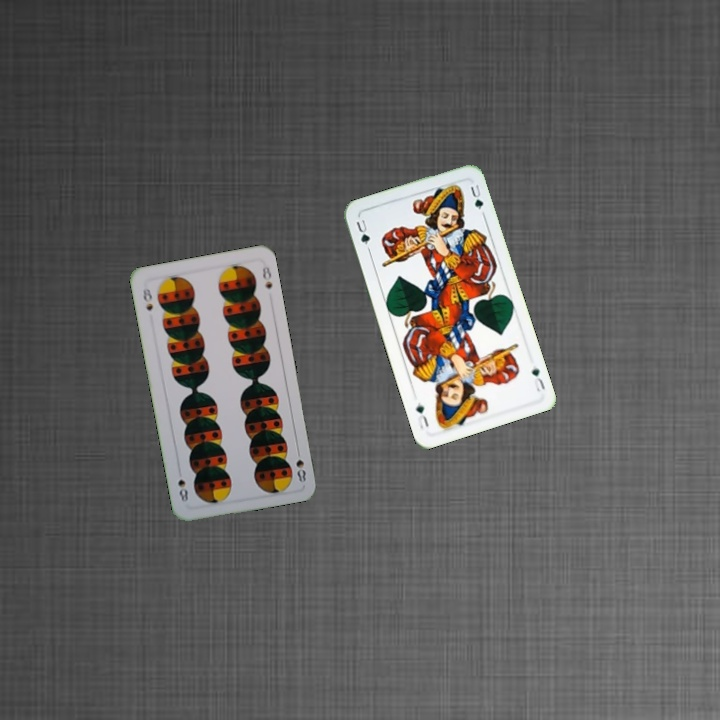GU: (352, 215, 373, 253), (527, 361, 548, 394)
S8: (292, 455, 308, 485), (139, 285, 155, 314)
